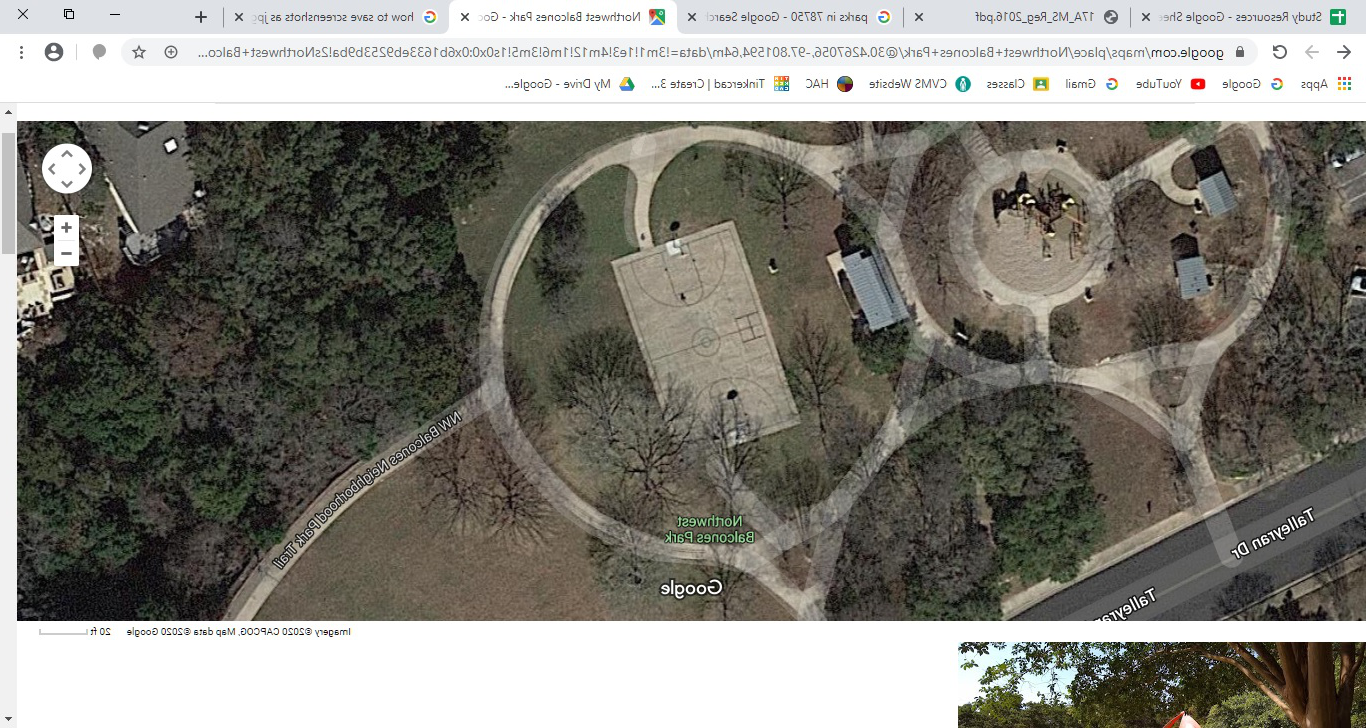basketball: (580, 209, 811, 469)
playscape: (940, 145, 1167, 342)
